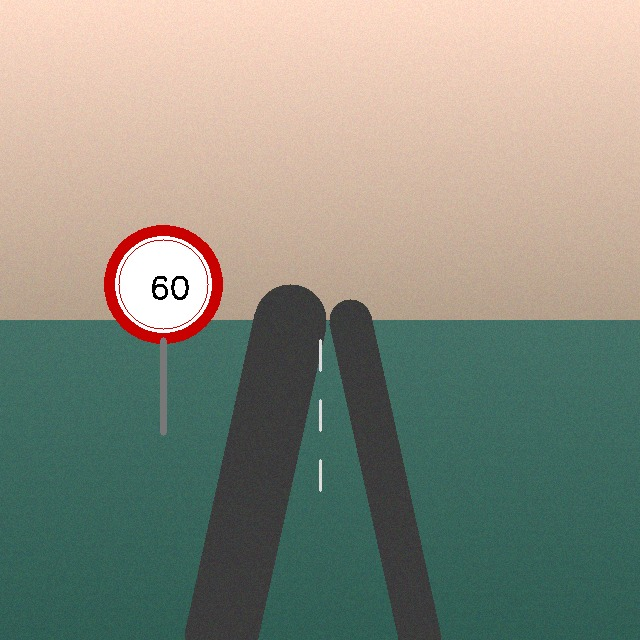velocidad: (107, 228, 219, 340)
